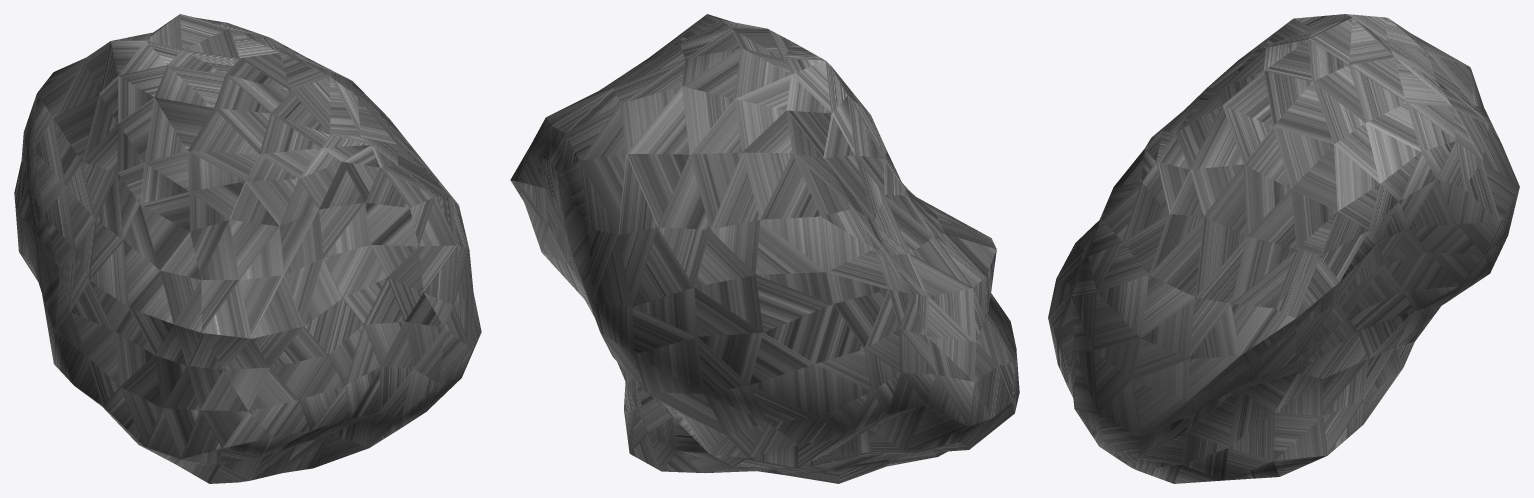
File: asteroid21.obj
3 views of the same model, side by side, from view 1: azimuth 30°, elevation 25°; view 2: azimuth 150°, elevation 25°; view 3: azimuth 270°, elevation 25° (orthographic). The views are drawn at different scales.
Visible parts, largest first — view 1: asteroid; view 2: asteroid; view 3: asteroid.
Part boxes in pixels (x1=…): asteroid: x1=14, y1=14, x2=481, y2=483; asteroid: x1=510, y1=14, x2=1019, y2=483; asteroid: x1=1048, y1=14, x2=1519, y2=483.
Bounding box in the file's own units: 49.19 × 49.35 × 49.33.
Materials: 1 (1 with a texture image).
